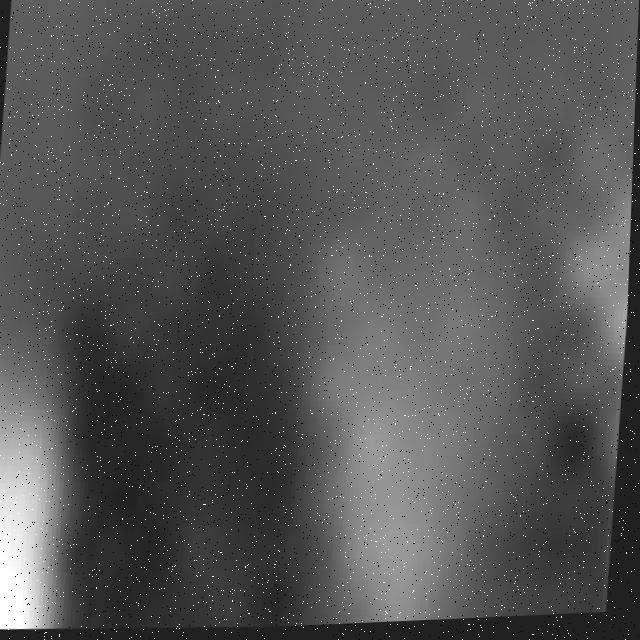person: (303, 218, 537, 630), (1, 274, 81, 633)
